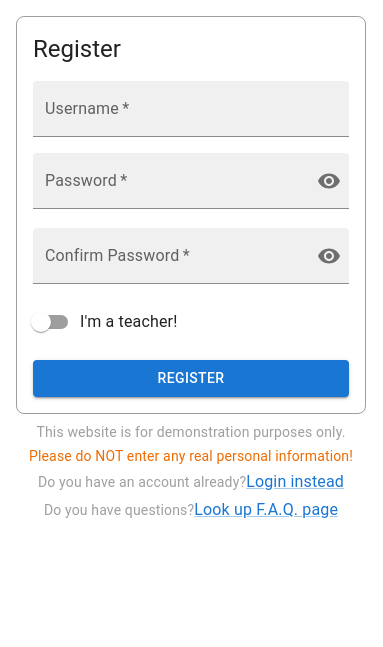
Test: Rendering test related pages: › Visibility tests with user interaction: › does not render select input but shows skeleton when switching without data.
Find checkbox and click on it
What coordinates should you click on to do the following:
click the checkbox
I would click on:
 (104, 322)
Its box is x1=31 y1=312 x2=177 y2=332.
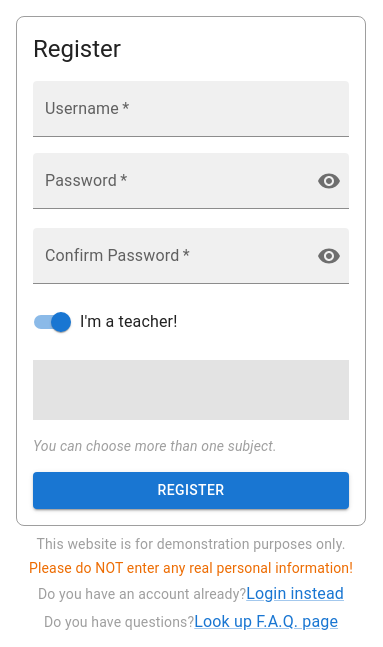
Result: the element with test id "skeleton" is shown at x1=33 y1=360 x2=349 y2=420
